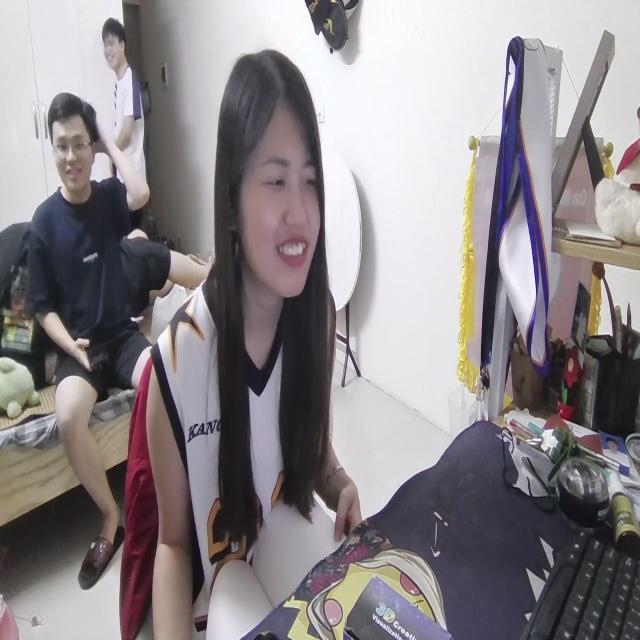book: (201, 471, 351, 640)
extra_person: (24, 91, 157, 580), (100, 18, 153, 232)
student: (148, 42, 366, 640)
